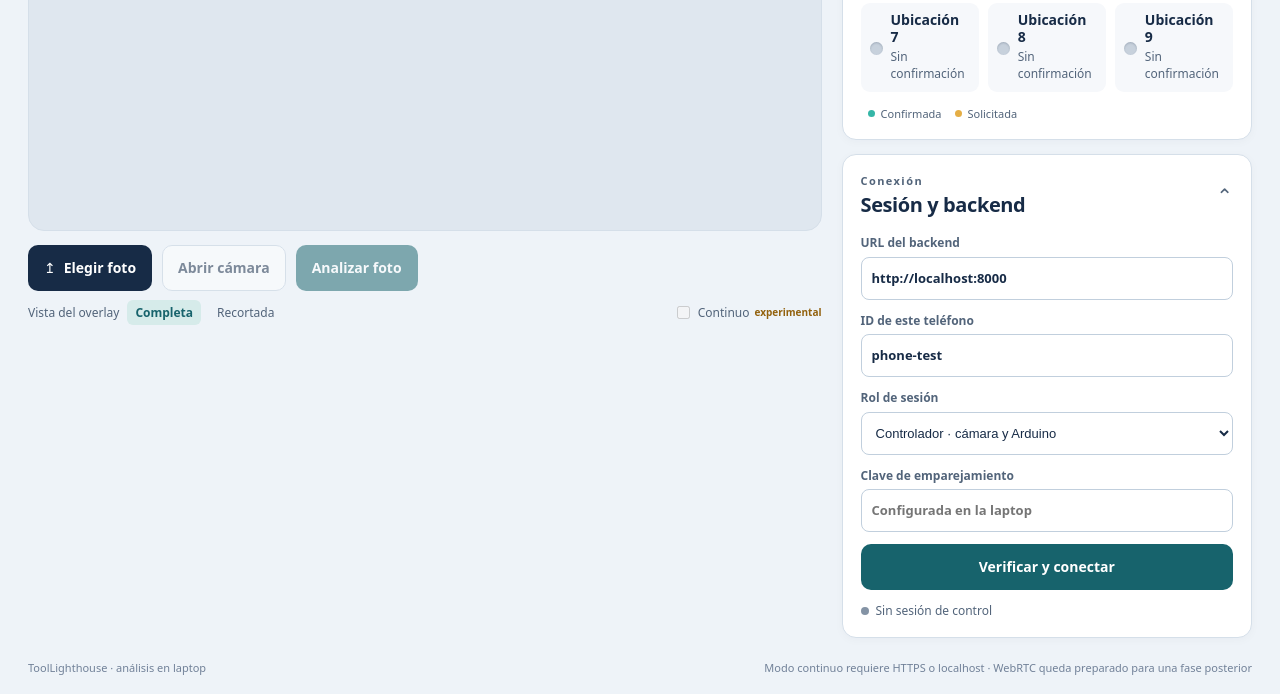
it: dashboard connection and camera lifecycle › renders reader sessions without enabling controller actions
(page scrolled)
Select "Lector · solo resultados" in the dropdown labelled "Rol de sesión" at (1047,433), box [860,412,1233,455]
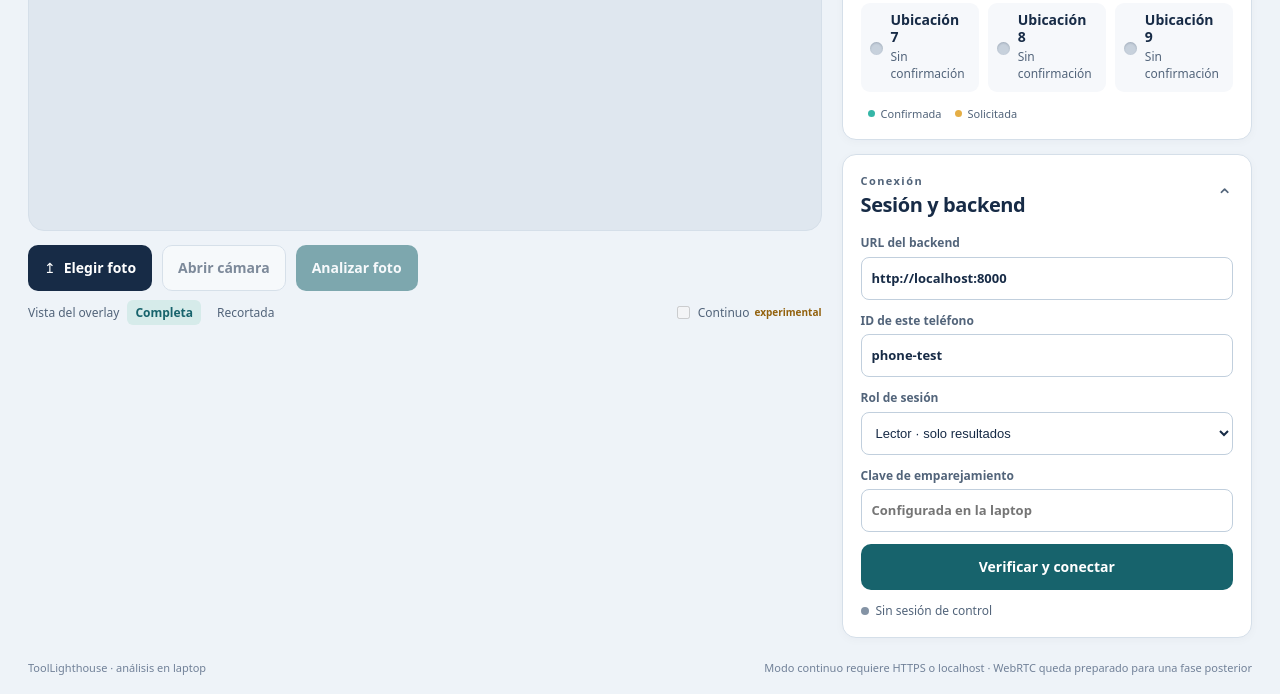
Click the button "Verificar y conectar".
click(1047, 567)  # box [860,544,1233,590]
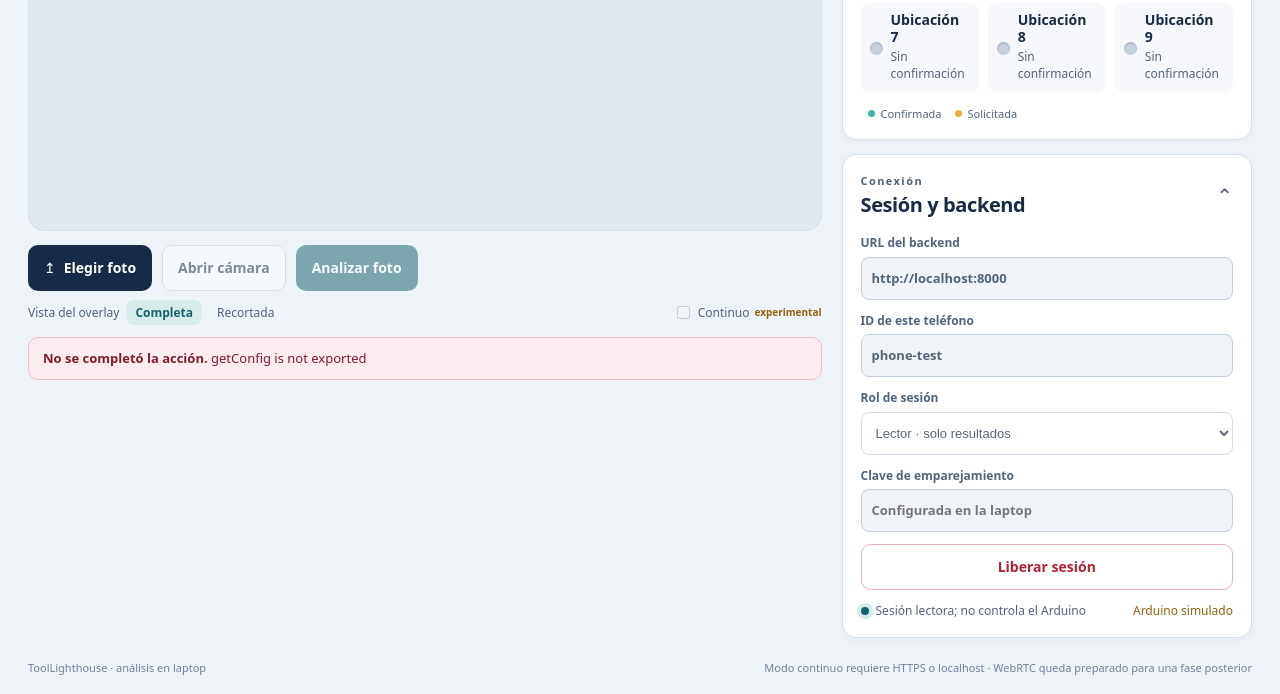
Expected: the button "Abrir cámara" is disabled, [162,245,286,291]
Expected: the text "Sesión lectora; no controla el Arduino" is shown, [876,602,1086,619]
